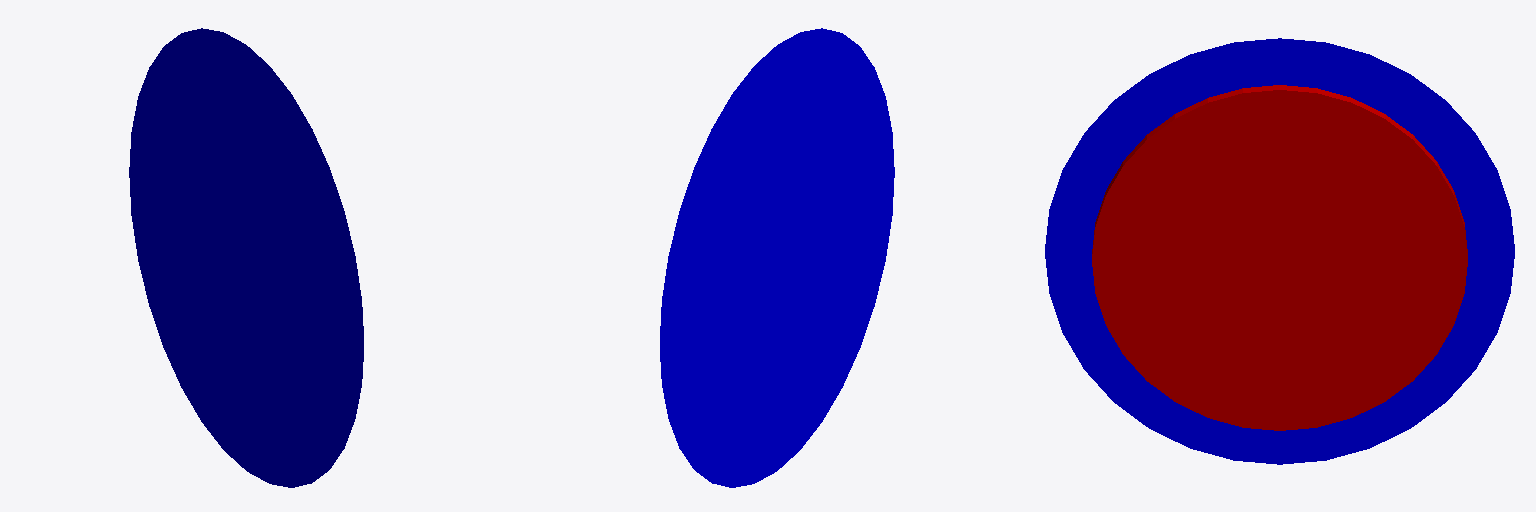
Rendered from PowerPeg_vision.obj.
The picture shows the model from 3 angles: view 1: azimuth 30°, elevation 25°; view 2: azimuth 150°, elevation 25°; view 3: azimuth 270°, elevation 25°; orthographic projection.
Visible parts, largest first — view 1: Circle; view 2: Circle; view 3: Cylinder_Cylinder.001, Circle.
Boxes of the visible parts, <box> form: Circle: <box>129,28,363,487</box>; Circle: <box>660,28,894,487</box>; Cylinder_Cylinder.001: <box>1092,85,1467,430</box>; Circle: <box>1045,38,1514,464</box>.
Bounding box in the file's own units: 0.0057 × 0.127 × 0.127.